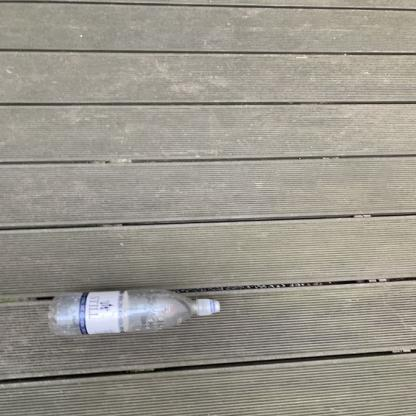trash: (45, 288, 221, 338)
